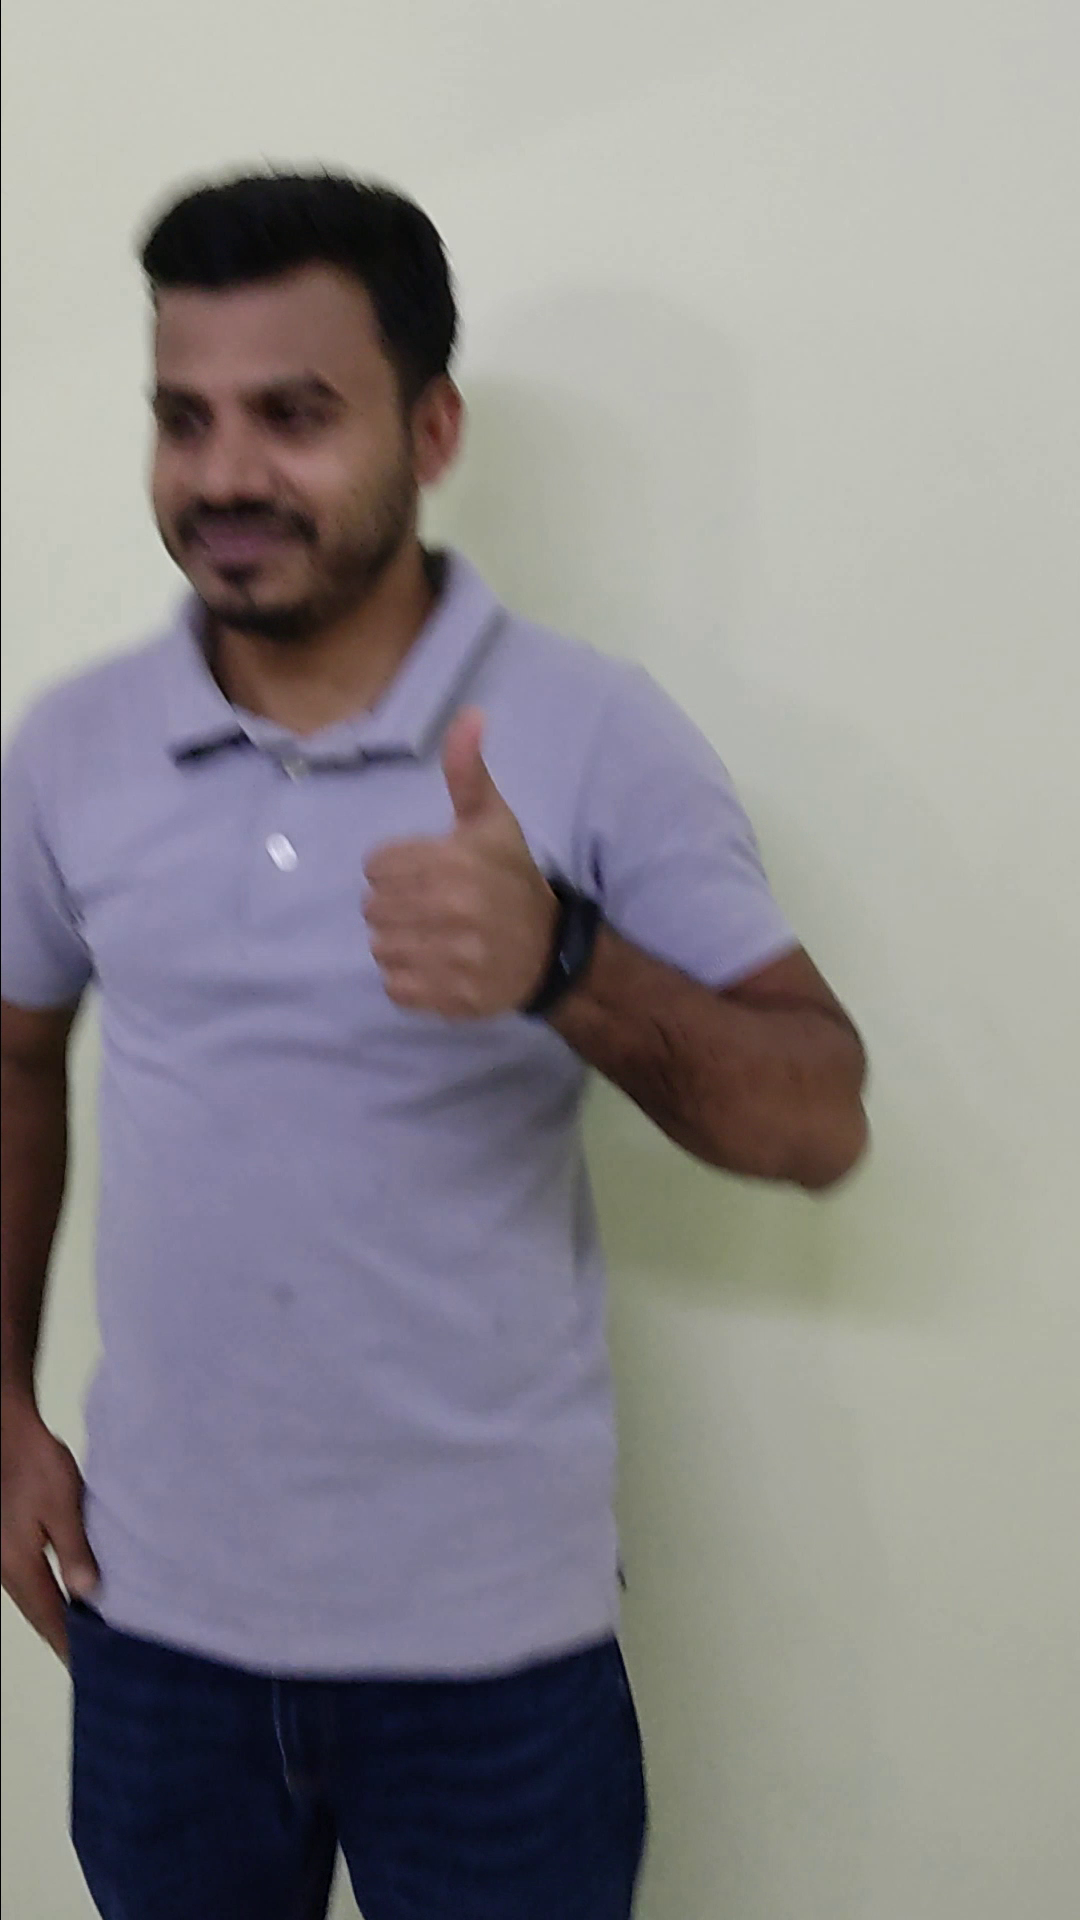Like: (359, 703, 597, 1040)
None: (3, 1395, 117, 1675)
